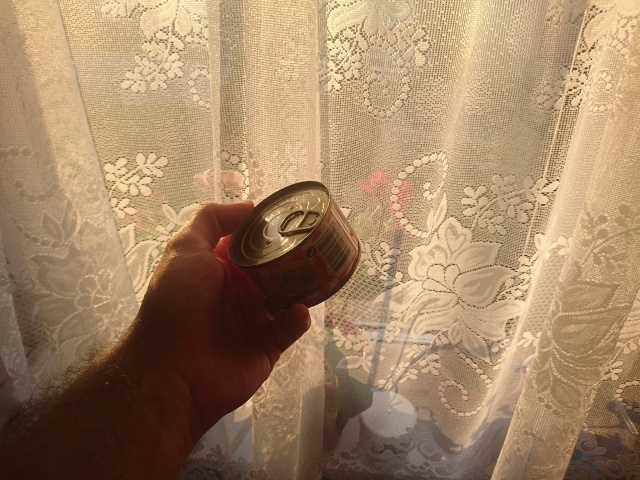Podravka Luncheon Meat 150g: (224, 178, 364, 311)
